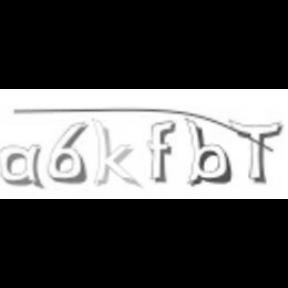6: (45, 121, 89, 187)
T: (228, 117, 282, 185)
a: (0, 140, 44, 190)
b: (180, 116, 234, 190)
f: (146, 120, 178, 184)
k: (90, 116, 140, 188)
